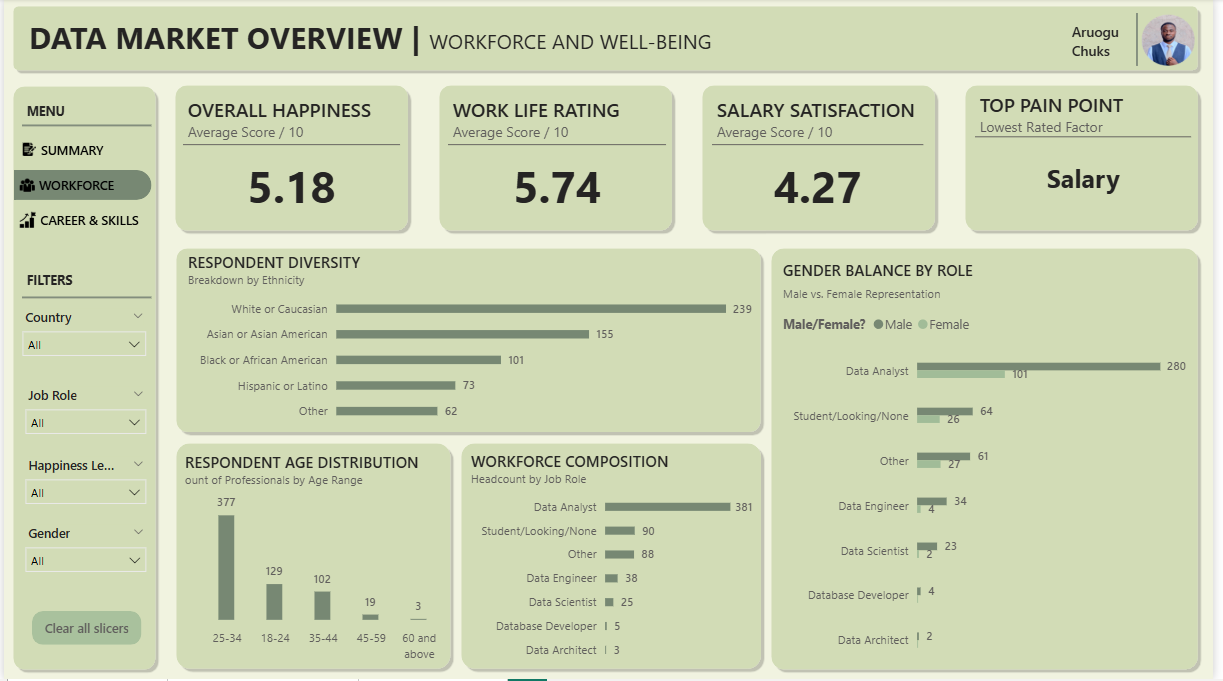

Layout of this report page (visuals, bound fields, positions):
{"tool":"powerbi","page":{"name":"WORKFORCE & WELLBEING","canvas":[1280,720],"ordinal":1},"visuals":[{"type":"image","box":[12.1,220,27.4,27.4],"z":0,"group":"g1"},{"type":"shape","box":[478.6,465.3,328.6,250],"z":0},{"type":"image","box":[12.6,182.1,25.8,28.4],"z":1000,"group":"g1"},{"type":"shape","box":[177.1,257.9,630,205.7],"z":1000},{"type":"shape","box":[4.7,86.5,161.8,628.8],"z":2000},{"type":"image","box":[15.5,147.1,24.2,24.5],"z":2000,"group":"g1"},{"type":"shape","box":[4.7,2.4,1265.3,78.8],"z":3000},{"type":"shape","box":[176.2,86.2,257.5,165],"z":4000},{"type":"shape","box":[455,86.2,257.5,165],"z":5000},{"type":"shape","box":[733.8,86.2,257.5,165],"z":6000},{"type":"shape","box":[1012.5,86.2,257.5,165],"z":7000},{"type":"textbox","box":[12.4,12.4,998.8,61.2],"z":8000},{"type":"textbox","box":[18.8,105,131.2,32.5],"z":9000},{"type":"shape","box":[18.9,117.4,137.4,32.6],"z":10000},{"type":"shape","box":[1186.2,15,27.5,56.2],"z":11000},{"type":"textbox","box":[18.8,284.2,131.1,32.1],"z":12000},{"type":"shape","box":[18.9,300,137.4,32.6],"z":13000},{"type":"textbox","box":[1125.9,19.3,71.9,53.9],"z":14000},{"type":"actionButton","box":[29.2,647.5,115.8,35.8],"z":15000},{"type":"card","title":"OVERALL HAPPINESS","fields":{"Values":["Data Professional Survey.Overall Happiness"]},"box":[190,102.5,230,136.2],"z":16000},{"type":"card","title":"WORK LIFE RATING","fields":{"Values":["Avg(Data Professional Survey.H-L: (Work/Life Balance))"]},"box":[470,102.5,231.2,136.2],"z":17000},{"type":"card","title":"SALARY SATISFACTION","fields":{"Values":["Avg(Data Professional Survey.H-L: (Salary))"]},"box":[750,102.5,223.8,136.2],"z":18000},{"type":"card","title":"TOP PAIN POINT","fields":{"Values":["Data Professional Survey.Top Pain Point"]},"box":[1028.1,97.5,229.2,141.8],"z":19000},{"type":"slicer","fields":{"Values":["Data Professional Survey.Q11 - Which Country do you live in?"]},"box":[9.9,323,150.5,61.5],"z":20000},{"type":"slicer","fields":{"Values":["Data Professional Survey.Q1 - Which Title Best Fits your Current Role?"]},"box":[12.4,405.6,147.6,74.4],"z":21000},{"type":"slicer","fields":{"Values":["Happiness Table.Happiness_Levels"]},"box":[12.4,480,147.6,62],"z":22000},{"type":"shape","box":[10.1,181,145.6,31.7],"z":23000},{"type":"actionButton","box":[29,147,87,24],"z":24000},{"type":"actionButton","box":[31.8,184.5,90,23.6],"z":25000},{"type":"actionButton","box":[29.4,221.2,121.8,24.1],"z":26000},{"type":"barChart","title":"RESPONDENT DIVERSITY","fields":{"Y":["CountNonNull(Data Professional Survey.Q13 - Ethnicity)"],"Category":["Data Professional Survey.Q13 - Ethnicity"]},"box":[195,262.9,597.1,192.1],"z":27000},{"type":"shape","box":[807.1,258.2,462.9,457.1],"z":28000},{"type":"barChart","title":"WORKFORCE COMPOSITION","fields":{"Category":["Data Professional Survey.Q1 - Which Title Best Fits your Current Role?"],"Y":["CountNonNull(Data Professional Survey.Q1 - Which Title Best Fits your Current Role?)"]},"box":[494,473,298,233],"z":29000},{"type":"shape","box":[177.1,465,301.4,250],"z":30000},{"type":"clusteredBarChart","title":"GENDER BALANCE BY ROLE","fields":{"Category":["Data Professional Survey.Q1 - Which Title Best Fits your Current Role?"],"Y":["CountNonNull(Data Professional Survey.Unique ID)"],"Series":["Data Professional Survey.Q9 - Male/Female?"]},"box":[824.4,271.1,426.7,436.7],"z":31000},{"type":"columnChart","title":"RESPONDENT AGE DISTRIBUTION","fields":{"Category":["Data Professional Survey.Age Group"],"Y":["CountNonNull(Data Professional Survey.Unique ID)"]},"box":[192,474,278,231],"z":32000},{"type":"group","id":"g1","title":"Group 1","box":[12.1,147.1,27.6,100.3],"z":33000},{"type":"image","box":[1200,10.6,65.6,65],"z":34000},{"type":"slicer","fields":{"Values":["Data Professional Survey.Q9 - Male/Female?"]},"box":[12.9,552.1,147.9,66.4],"z":35000}]}

Visuals, with their boxes in screenshot pixels (x1, y1, x2, y2), scaled from the page's 1280x720 canvas onto the 1223x681 screenshot:
image: {"x1": 12, "y1": 208, "x2": 38, "y2": 234}
shape: {"x1": 457, "y1": 440, "x2": 771, "y2": 677}
image: {"x1": 12, "y1": 172, "x2": 37, "y2": 199}
shape: {"x1": 169, "y1": 244, "x2": 771, "y2": 438}
shape: {"x1": 4, "y1": 82, "x2": 159, "y2": 677}
image: {"x1": 15, "y1": 139, "x2": 38, "y2": 162}
shape: {"x1": 4, "y1": 2, "x2": 1213, "y2": 77}
shape: {"x1": 168, "y1": 82, "x2": 414, "y2": 238}
shape: {"x1": 435, "y1": 82, "x2": 681, "y2": 238}
shape: {"x1": 701, "y1": 82, "x2": 947, "y2": 238}
shape: {"x1": 967, "y1": 82, "x2": 1213, "y2": 238}
textbox: {"x1": 12, "y1": 12, "x2": 966, "y2": 70}
textbox: {"x1": 18, "y1": 99, "x2": 143, "y2": 130}
shape: {"x1": 18, "y1": 111, "x2": 149, "y2": 142}
shape: {"x1": 1133, "y1": 14, "x2": 1160, "y2": 67}
textbox: {"x1": 18, "y1": 269, "x2": 143, "y2": 299}
shape: {"x1": 18, "y1": 284, "x2": 149, "y2": 315}
textbox: {"x1": 1076, "y1": 18, "x2": 1144, "y2": 69}
actionButton: {"x1": 28, "y1": 612, "x2": 139, "y2": 646}
"OVERALL HAPPINESS" card: {"x1": 182, "y1": 97, "x2": 401, "y2": 226}
"WORK LIFE RATING" card: {"x1": 449, "y1": 97, "x2": 670, "y2": 226}
"SALARY SATISFACTION" card: {"x1": 717, "y1": 97, "x2": 930, "y2": 226}
"TOP PAIN POINT" card: {"x1": 982, "y1": 92, "x2": 1201, "y2": 226}
slicer - Data Professional Survey.Q11 - Which Country do you live in?: {"x1": 9, "y1": 306, "x2": 153, "y2": 364}
slicer - Data Professional Survey.Q1 - Which Title Best Fits your Current Role?: {"x1": 12, "y1": 384, "x2": 153, "y2": 454}
slicer - Happiness Table.Happiness_Levels: {"x1": 12, "y1": 454, "x2": 153, "y2": 513}
shape: {"x1": 10, "y1": 171, "x2": 149, "y2": 201}
actionButton: {"x1": 28, "y1": 139, "x2": 111, "y2": 162}
actionButton: {"x1": 30, "y1": 175, "x2": 116, "y2": 197}
actionButton: {"x1": 28, "y1": 209, "x2": 144, "y2": 232}
"RESPONDENT DIVERSITY" barChart: {"x1": 186, "y1": 249, "x2": 757, "y2": 430}
shape: {"x1": 771, "y1": 244, "x2": 1213, "y2": 677}
"WORKFORCE COMPOSITION" barChart: {"x1": 472, "y1": 447, "x2": 757, "y2": 668}
shape: {"x1": 169, "y1": 440, "x2": 457, "y2": 676}
"GENDER BALANCE BY ROLE" clusteredBarChart: {"x1": 788, "y1": 256, "x2": 1195, "y2": 669}
"RESPONDENT AGE DISTRIBUTION" columnChart: {"x1": 183, "y1": 448, "x2": 449, "y2": 667}
"Group 1" group: {"x1": 12, "y1": 139, "x2": 38, "y2": 234}
image: {"x1": 1147, "y1": 10, "x2": 1209, "y2": 72}
slicer - Data Professional Survey.Q9 - Male/Female?: {"x1": 12, "y1": 522, "x2": 154, "y2": 585}
